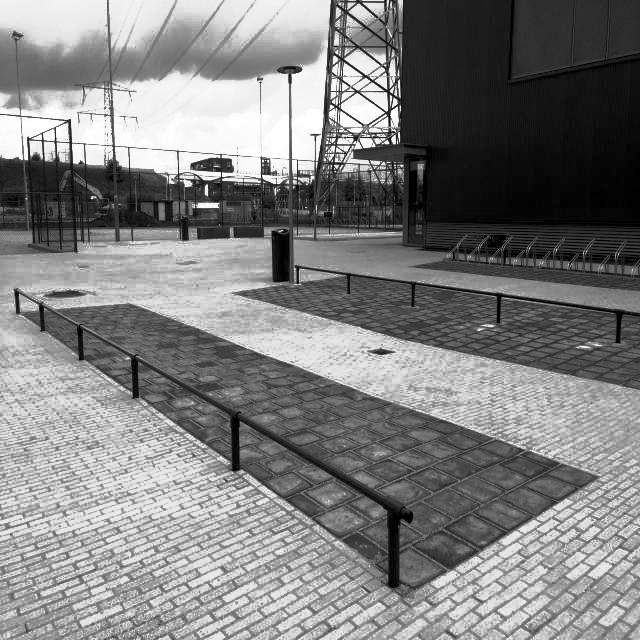fences: (90, 162, 287, 216)
